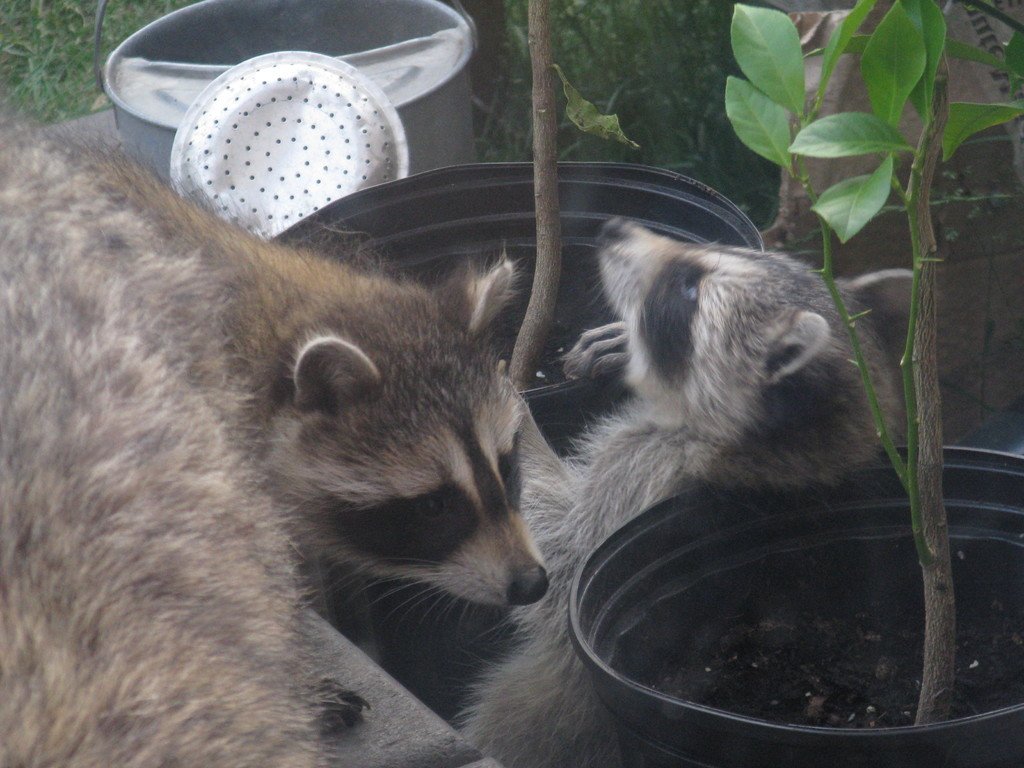raccoon: (1, 118, 549, 768), (464, 206, 864, 768)
